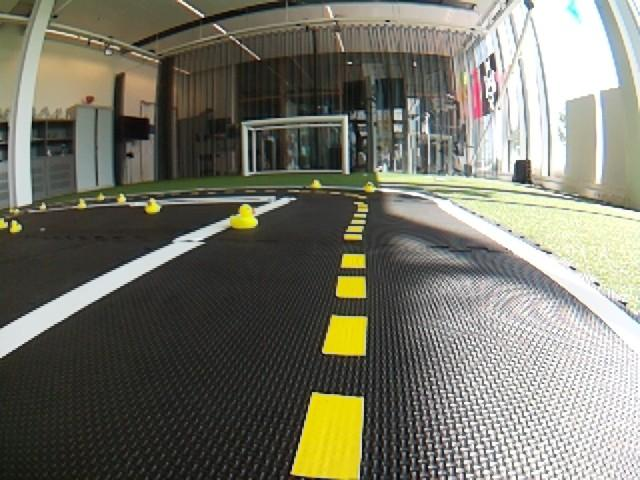Duckies: (229, 203, 257, 229), (144, 198, 160, 213), (10, 219, 22, 233), (364, 182, 375, 192), (0, 218, 8, 230), (117, 193, 126, 203), (311, 180, 321, 188), (78, 198, 86, 208), (40, 202, 48, 212), (97, 192, 104, 201), (13, 209, 20, 214)
